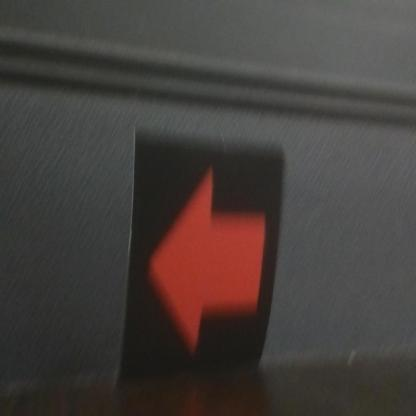left: (134, 131, 272, 373)
